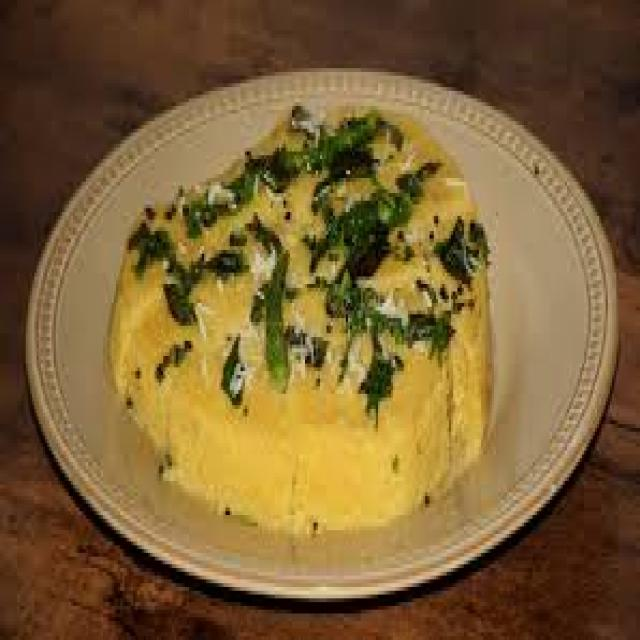DHOKLA: (313, 212, 496, 464), (287, 287, 447, 535), (174, 292, 300, 530), (122, 266, 261, 463), (280, 107, 472, 237), (220, 102, 369, 234), (114, 207, 212, 376)
